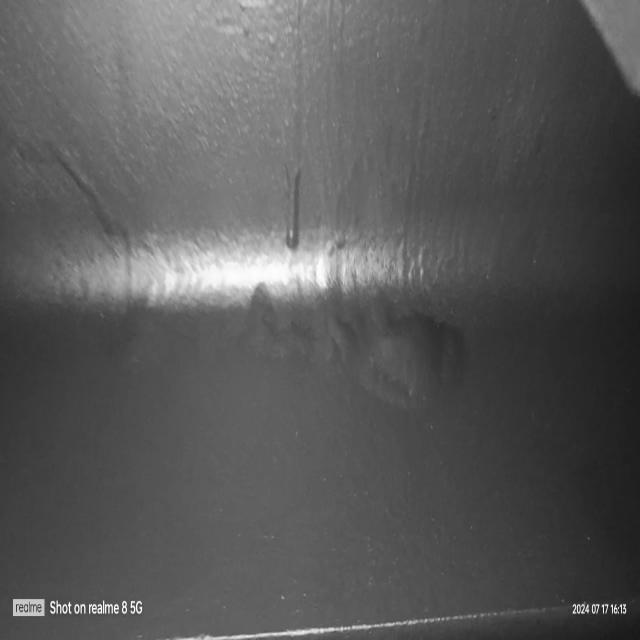paint drips: (38, 124, 141, 250), (282, 0, 306, 255)
